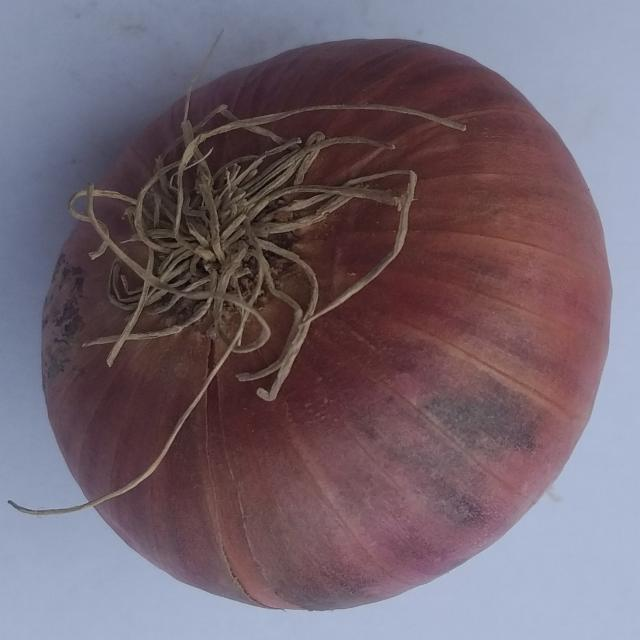onion: (38, 36, 614, 615)
